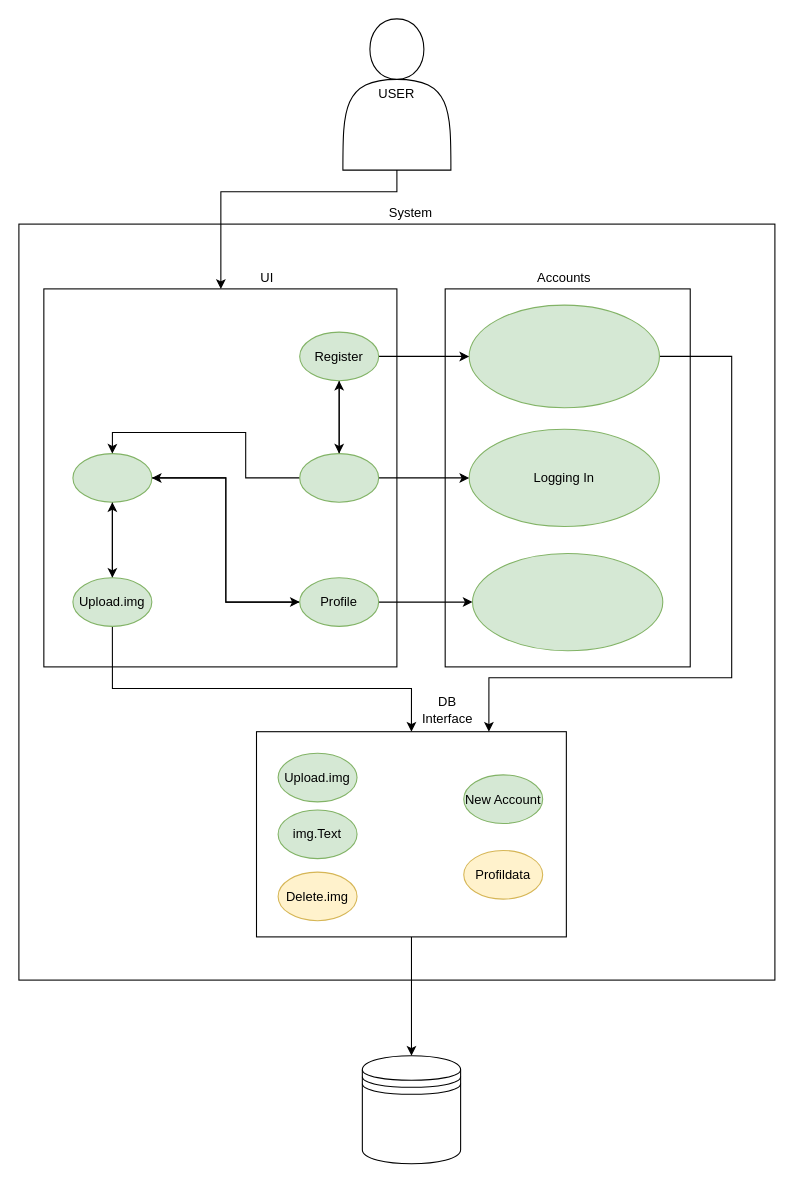
Some shapes in this 794 by 1183 pixel diagram are drawn without their labels. The box of each missing label's shape, as (x1, y1, x2, y2) in pixels:
Creating an Account: (468, 304, 659, 408)
DB: (361, 1055, 461, 1164)
Homepage: (72, 453, 152, 502)
Logging out: (471, 552, 663, 651)
LogIn: (299, 453, 379, 502)
